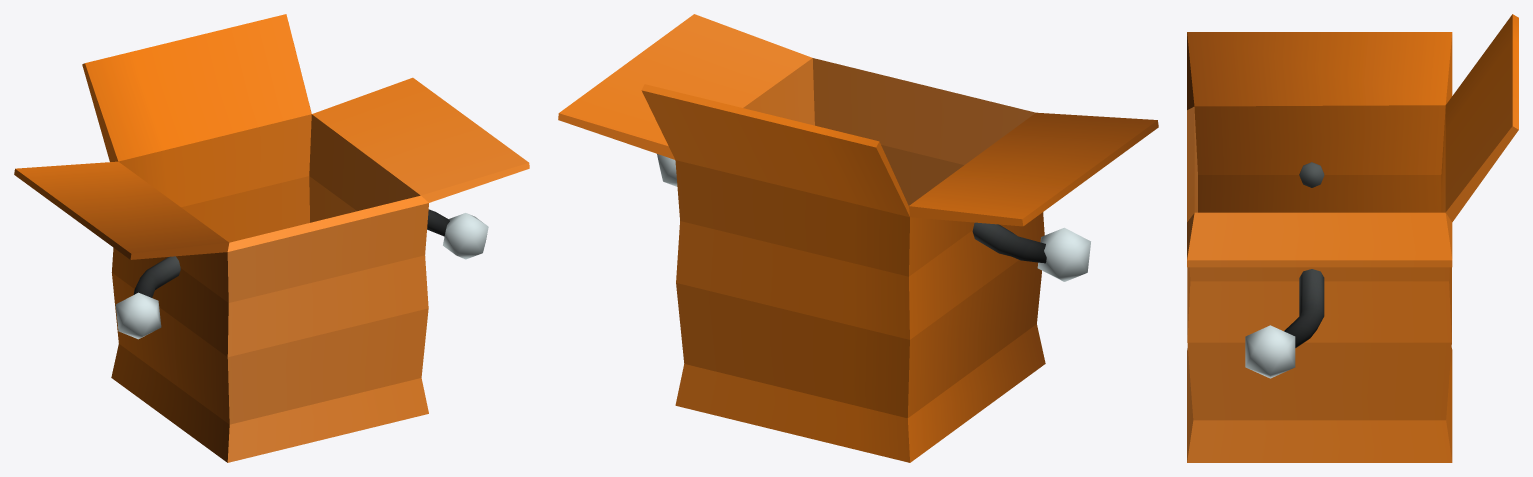
The model's file is carton_001.fbx.
3 renders of one model, left to right at view 1: azimuth 30°, elevation 25°; view 2: azimuth 150°, elevation 25°; view 3: azimuth 270°, elevation 25°, orthographic. The views are drawn at different scales.
Visible parts, largest first — view 1: carton.001; view 2: carton.001; view 3: carton.001.
Part boxes in pixels (<box>): carton.001: <box>14,14,529,462</box>; carton.001: <box>558,14,1158,462</box>; carton.001: <box>1187,14,1518,462</box>.
Size of the model in its own units: 76.98 by 54.41 by 48.58.
